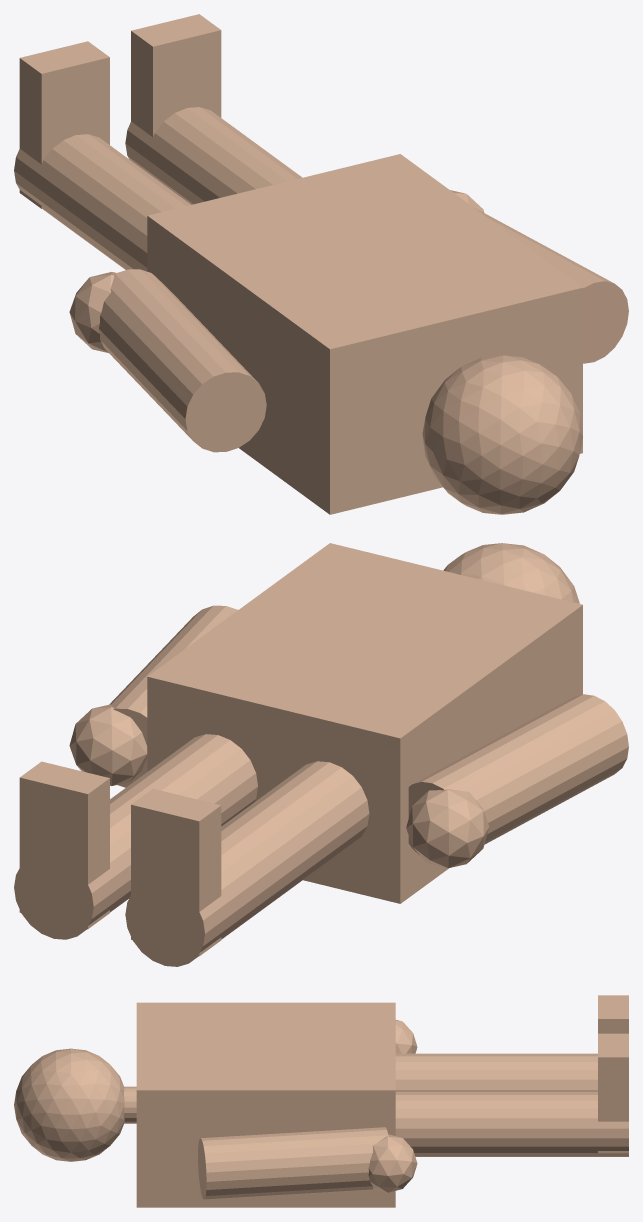
Rendered from overweight.glb.
The picture shows the model from 3 angles, top to bottom: view 1: azimuth 30°, elevation 25°; view 2: azimuth 150°, elevation 25°; view 3: azimuth 270°, elevation 25°; orthographic projection. The views are drawn at different scales.
Parts seen in each view (by area): view 1: world; view 2: world; view 3: world.
Part boxes in pixels (bbox=[...]): world: bbox=[14, 14, 628, 514]; world: bbox=[14, 543, 628, 966]; world: bbox=[14, 995, 628, 1207].
Bounding box in the file's own units: 1.4 × 0.586 × 2.37.
